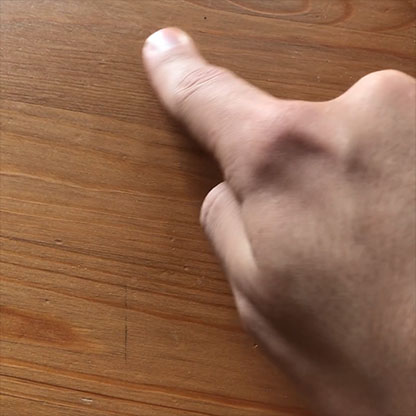fingertip: (132, 17, 198, 68)
